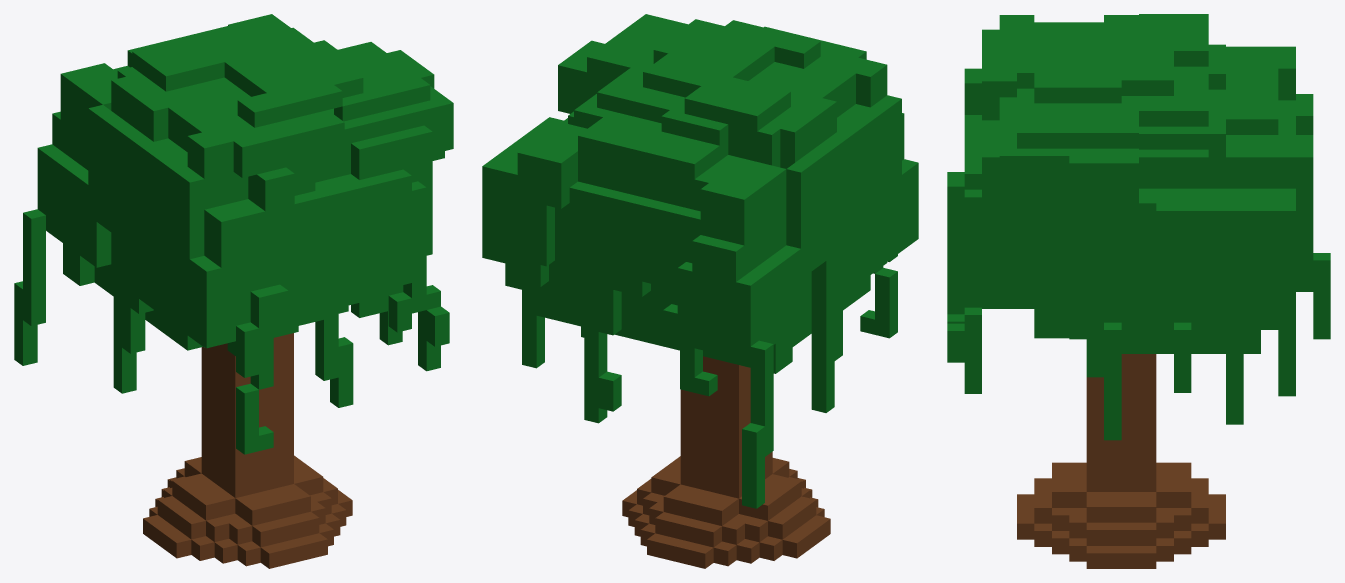
The model's file is tree_jungle_2.dae.
3 renders of one model, left to right at view 1: azimuth 30°, elevation 25°; view 2: azimuth 150°, elevation 25°; view 3: azimuth 270°, elevation 25°, orthographic. The views are drawn at different scales.
Visible parts, largest first — view 1: PlaneCOL; view 2: PlaneCOL; view 3: PlaneCOL.
Part boxes in pixels (box(x1,y1,x2,y2)): PlaneCOL: box(14, 14, 453, 568); PlaneCOL: box(482, 14, 918, 568); PlaneCOL: box(947, 14, 1330, 568).
Bounding box in the file's own units: 2 × 2.2 × 3.
